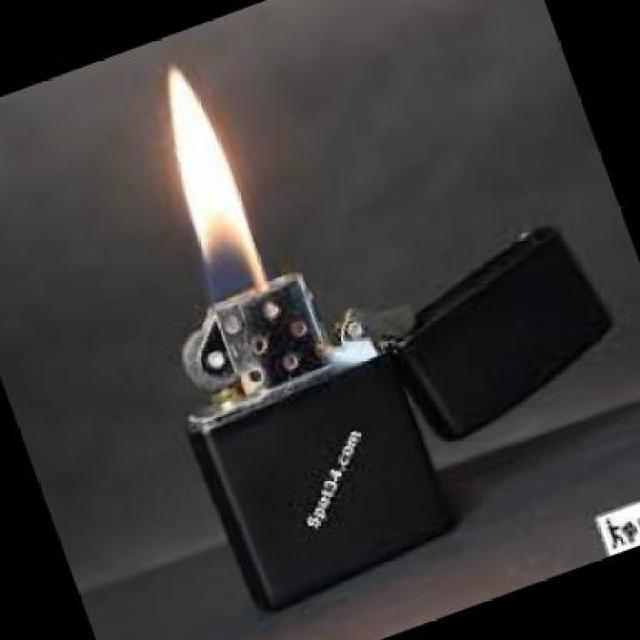Fire: (164, 61, 271, 282)
